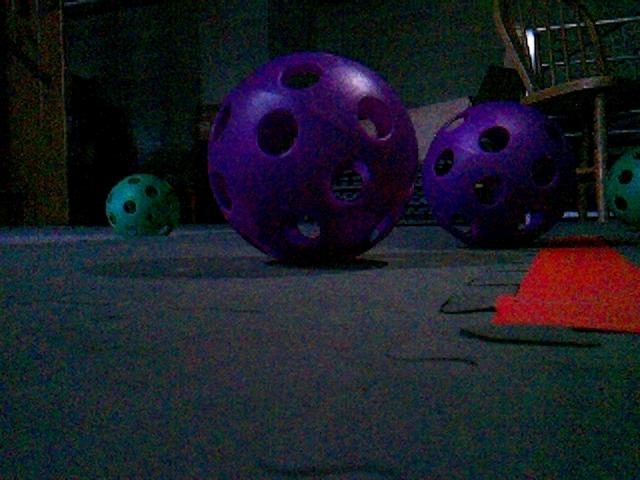Green: (103, 173, 180, 238), (602, 148, 640, 226)
Purple: (206, 54, 419, 264), (421, 102, 576, 249)
